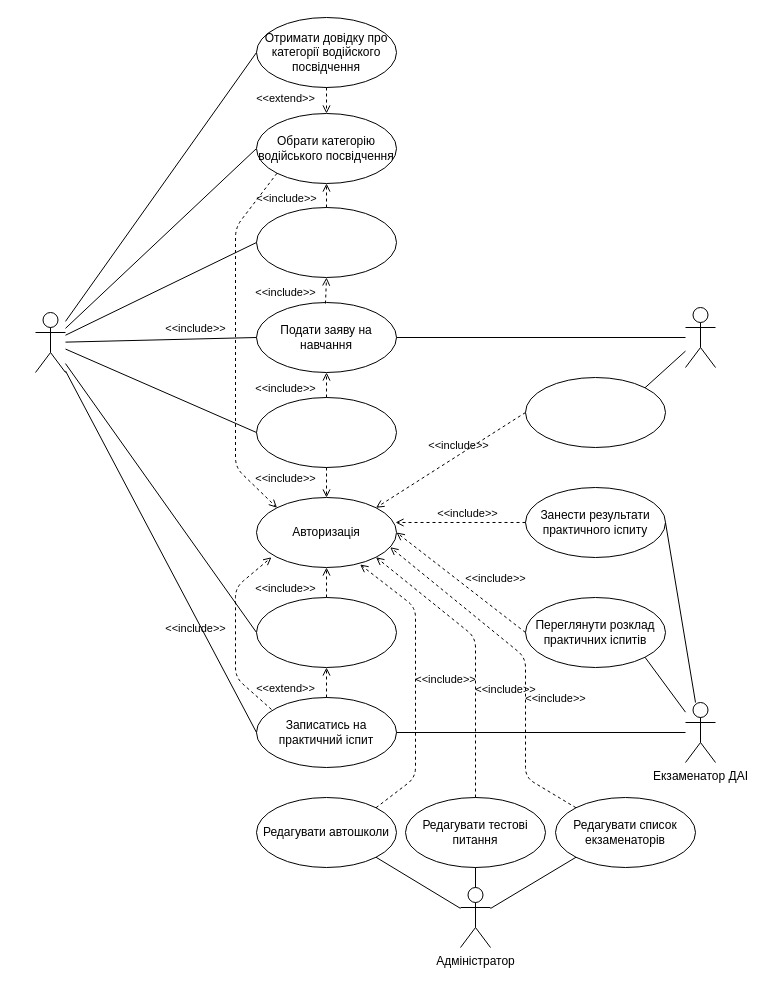
Some shapes in this 765 by 986 pixel diagram are drawn without their labels. Each missing label, with the box of its shape:
Водій-учень: (34, 312, 66, 372)
Занести свідоцтво про закінчення автошколи: (524, 376, 666, 448)
Обрати місце навчання: (256, 206, 396, 278)
Оплата навчання: (256, 396, 396, 468)
Представник автошколи: (684, 306, 716, 368)
Пройти теоретичний іспит: (256, 596, 396, 668)
